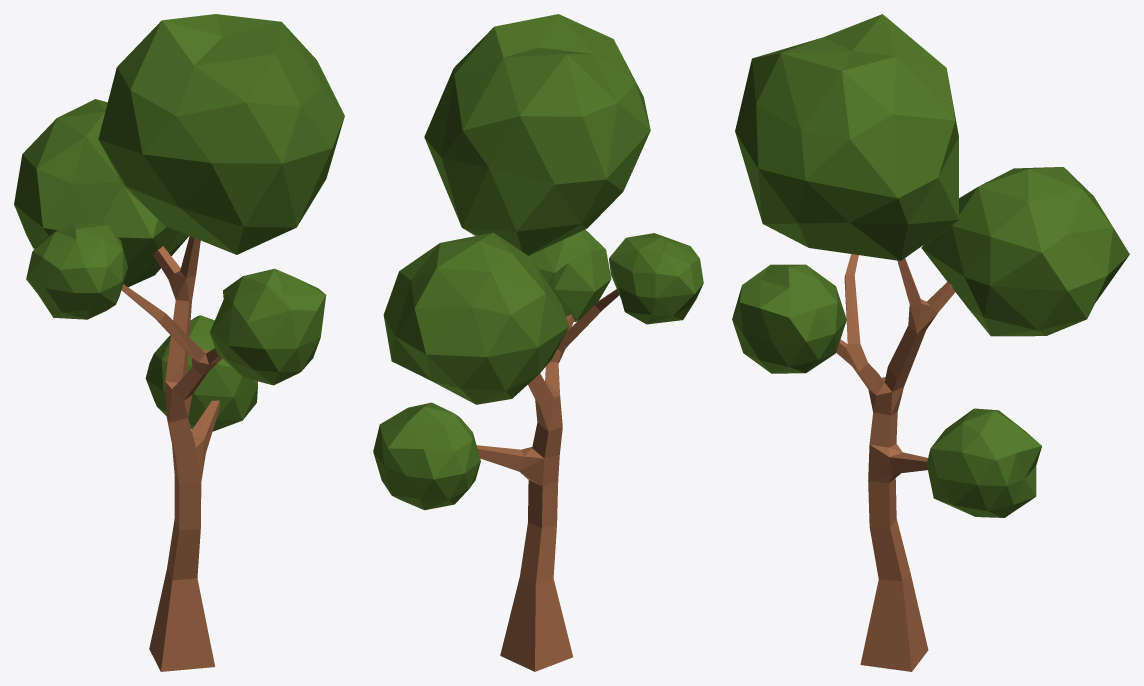
Rendered from Tree_3.fbx.
3 views of the same model, side by side, from view 1: azimuth 30°, elevation 25°; view 2: azimuth 150°, elevation 25°; view 3: azimuth 270°, elevation 25° (orthographic). The views are drawn at different scales.
Parts seen in each view (by area): view 1: Tree_3; view 2: Tree_3; view 3: Tree_3.
Part boxes in pixels (<box>): Tree_3: <box>14,14,344,671</box>; Tree_3: <box>373,14,703,671</box>; Tree_3: <box>732,14,1129,671</box>.
Bounding box in the file's own units: 1022 × 2248 × 1285.
